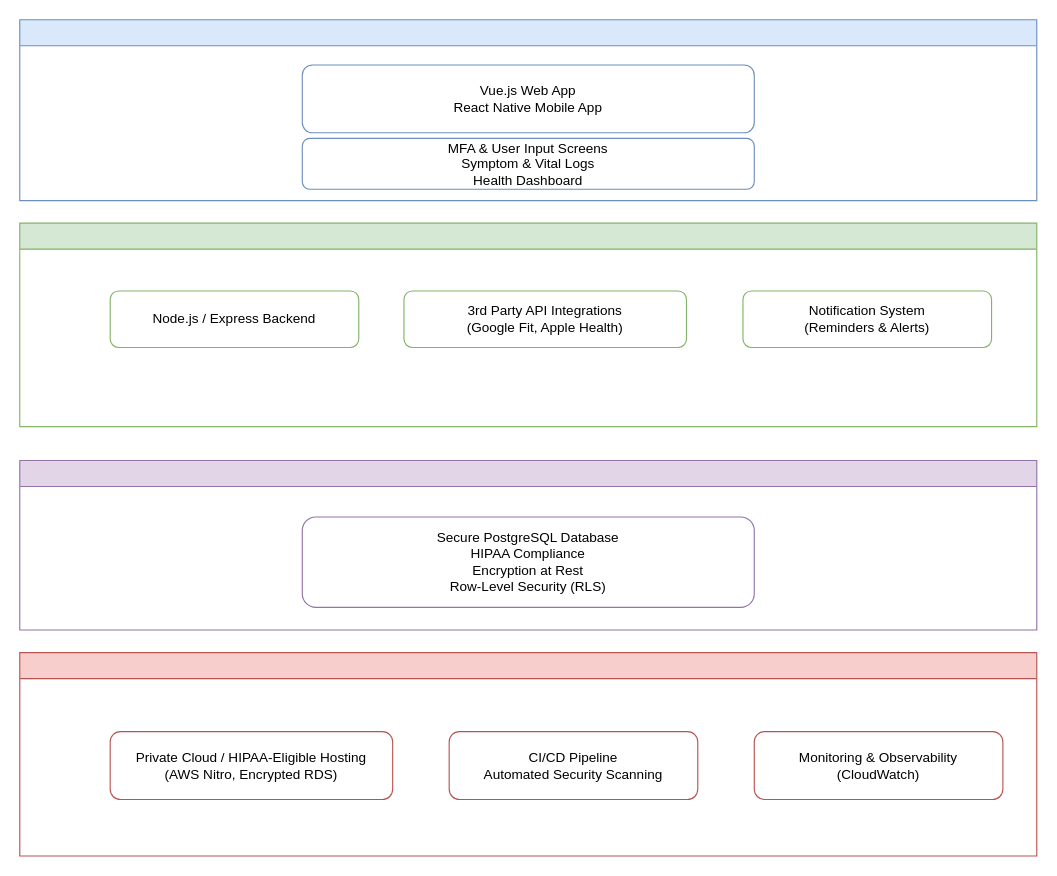
This 1057x876 diagram has some shape labels left out. Each missing label, with the box of its shape:
Application Layer (Backend Logic & API): (19, 222, 1037, 427)
Data Layer (Storage): (19, 459, 1037, 630)
Infrastructure & DevOps Layer: (19, 651, 1037, 856)
Presentation Layer (Client-Side): (19, 19, 1037, 201)
